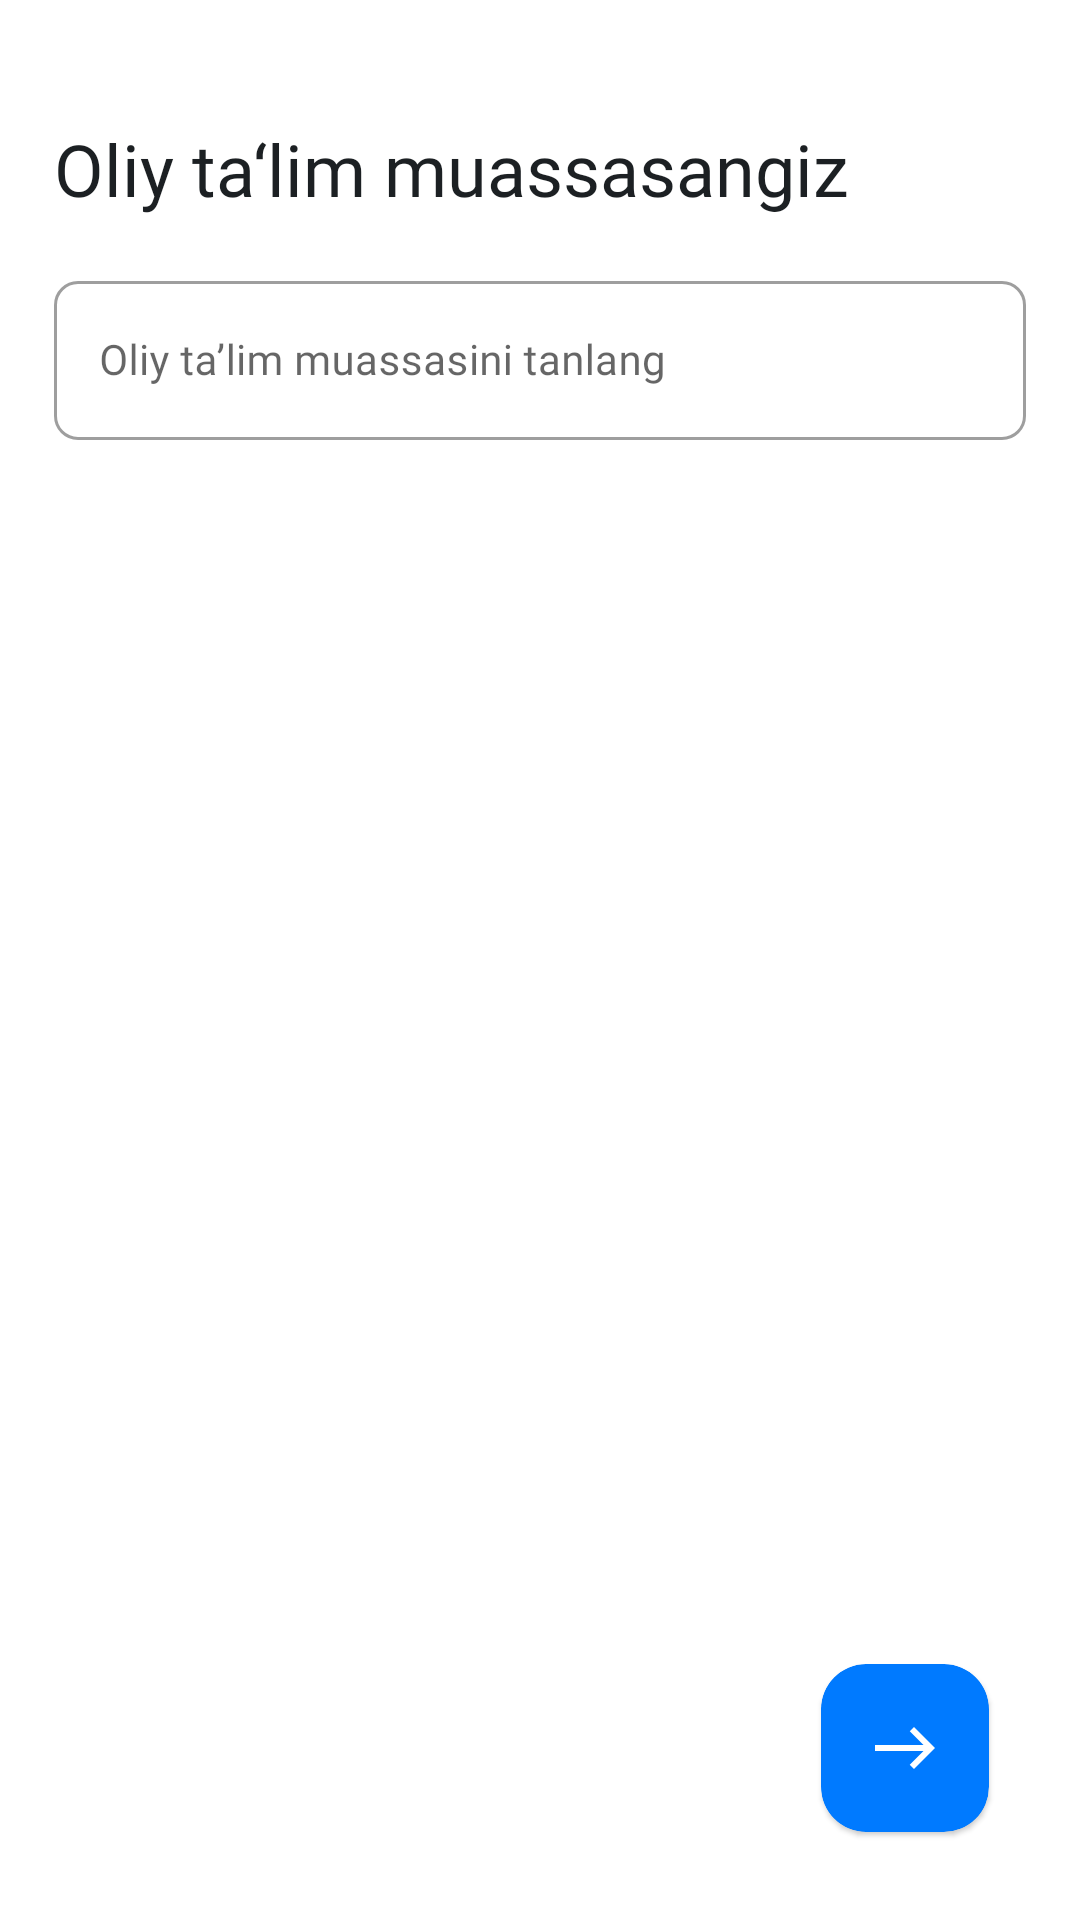

Icon click points for this 1080×1920 phone screenshot, format [x,y]:
next: [905,1748]
